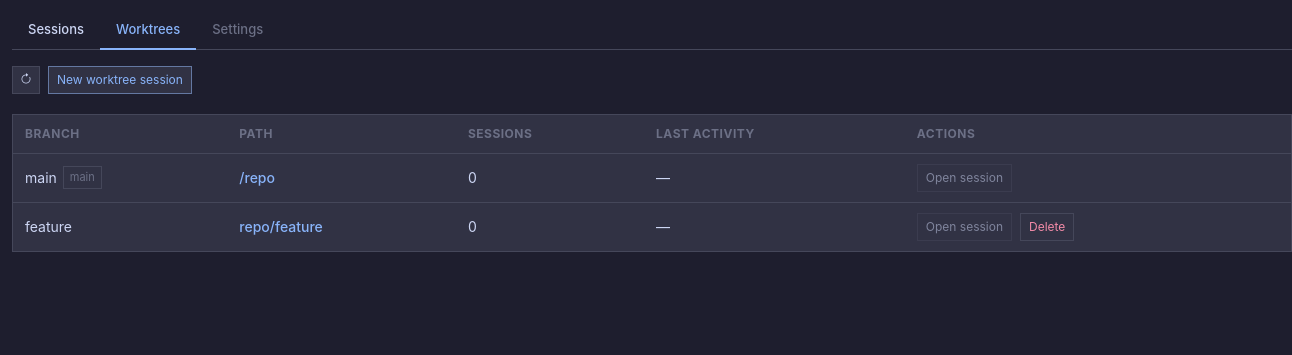
Test: WorktreesView › surfaces a non-dirty error instead of arming Force delete
Expected: the text "feature" is shown, [25,216,72,237]
Click the button "Delete". click: point(1047, 226)
box: [1020,212,1074,240]
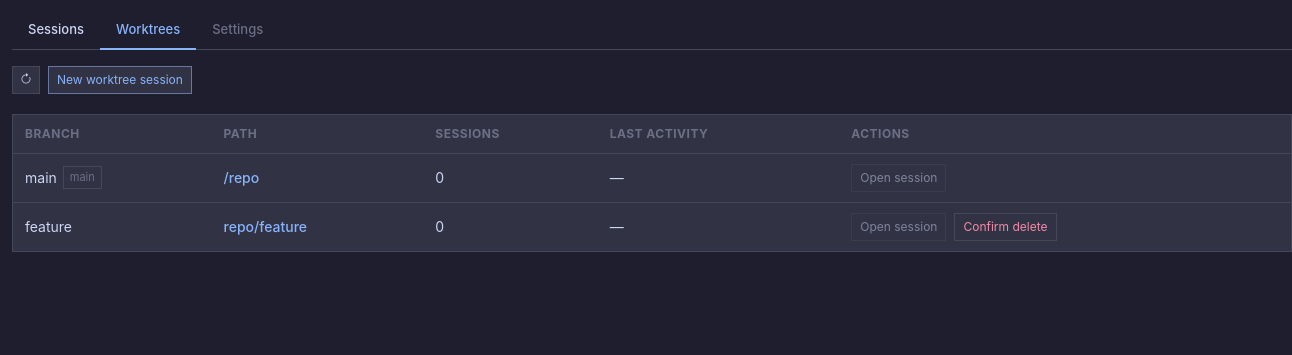
Click the button "Confirm delete". click: point(1006, 226)
box: [954,212,1056,240]
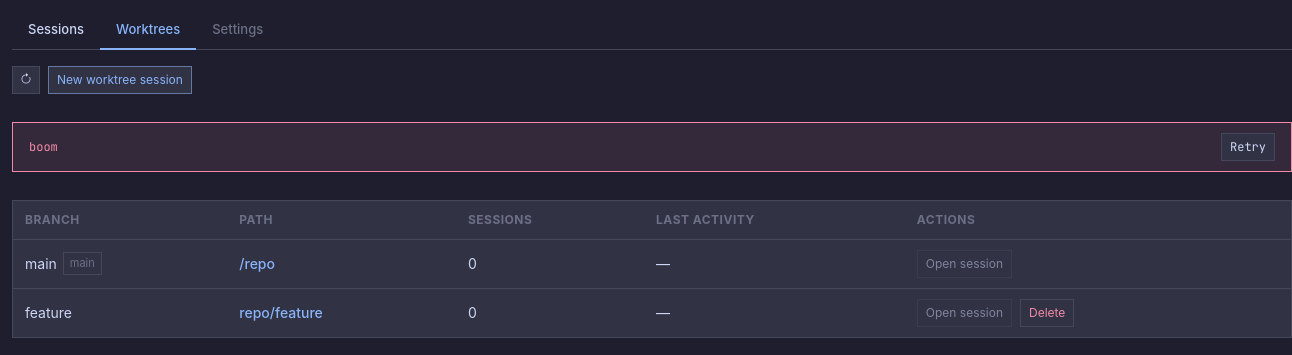
Expected: the message shows "boom", [29,138,58,154]
